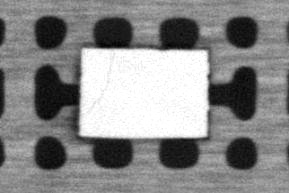DIE_CRACK: (85, 52, 112, 113)
